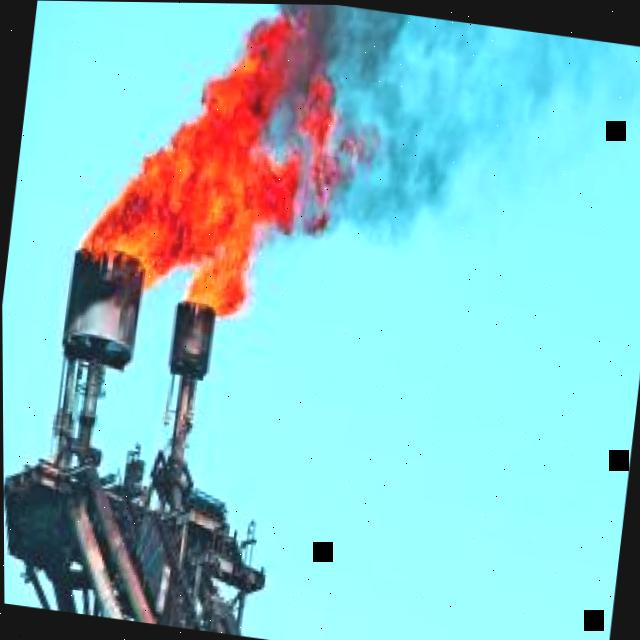fire: (71, 18, 338, 315)
smoke: (251, 3, 640, 253)
